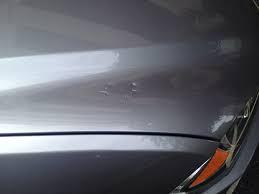bonnet-dent: (0, 0, 241, 160)
